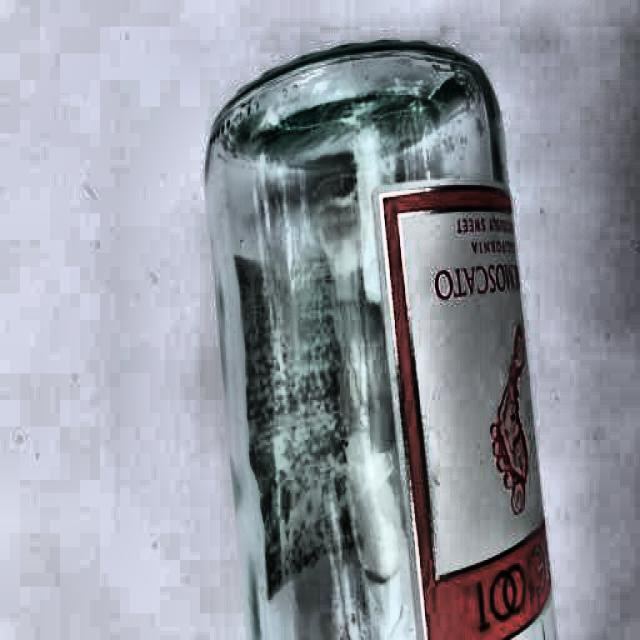glass: (197, 38, 558, 640)
